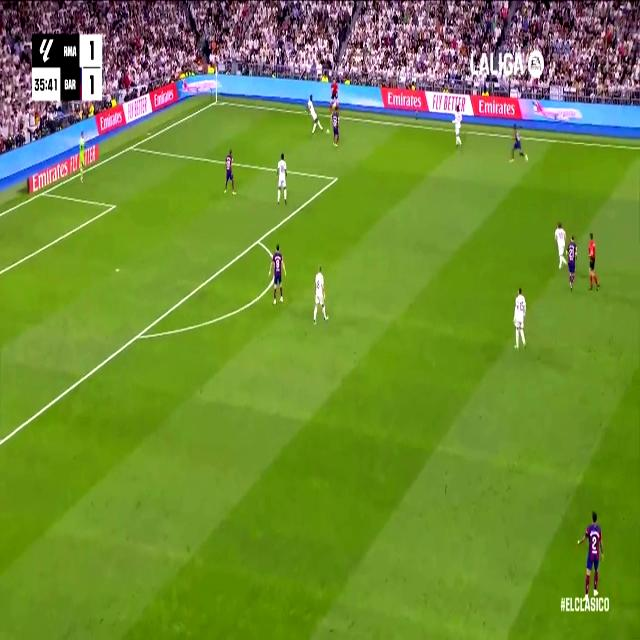bigarea_top_inner: (331, 169, 339, 187)
bigarea_top_outter: (128, 138, 136, 154)
bottom_arc_area_intersection: (132, 322, 144, 346)
corner: (211, 94, 222, 107)
smallarea_bottom_outter: (40, 186, 48, 199)
smallarea_top_inner: (109, 198, 117, 214)
top_arc_area_intersection: (254, 231, 263, 249)
